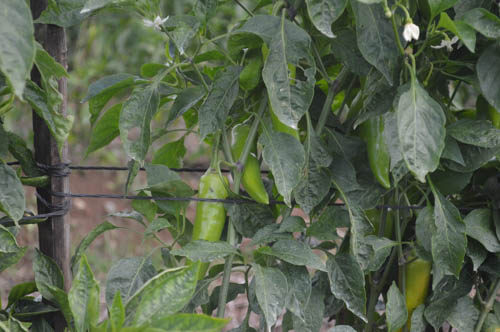ChiliPepper: (258, 38, 301, 145), (194, 175, 228, 278), (233, 122, 269, 204), (361, 105, 390, 190)
